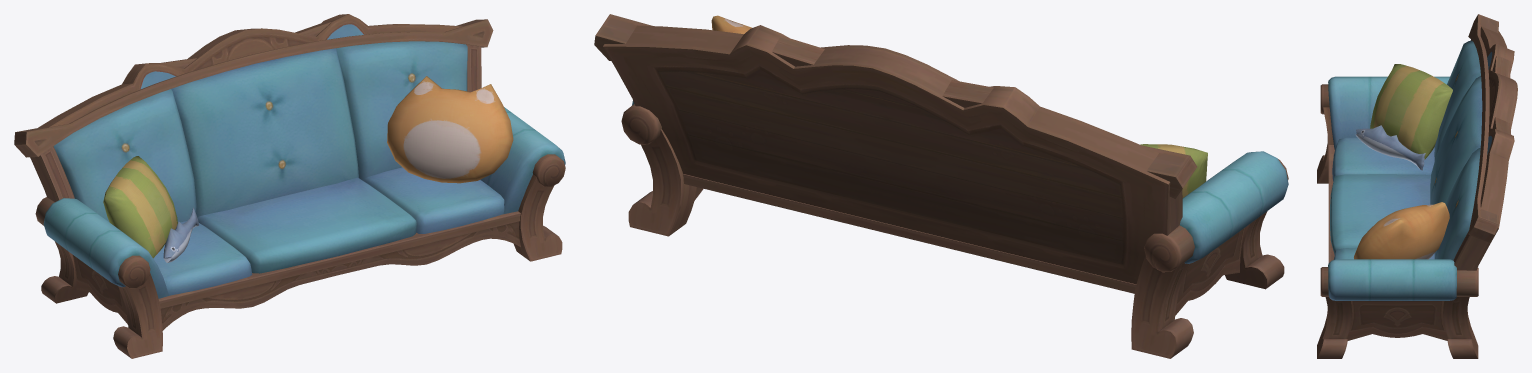
Rendered from Homeworld_Interior_Md_Chair_Prop_LeatherSofa_01_Vo.fbx.
3 views of the same model, side by side, from view 1: azimuth 30°, elevation 25°; view 2: azimuth 150°, elevation 25°; view 3: azimuth 270°, elevation 25° (orthographic). The views are drawn at different scales.
Visible parts, largest first — view 1: Indoor_Md_Prop_Chair_Leatherchair_01_Vo; view 2: Indoor_Md_Prop_Chair_Leatherchair_01_Vo; view 3: Indoor_Md_Prop_Chair_Leatherchair_01_Vo.
Boxes of the visible parts, x1,y1,x2,y2 form: Indoor_Md_Prop_Chair_Leatherchair_01_Vo: [14, 14, 565, 358]; Indoor_Md_Prop_Chair_Leatherchair_01_Vo: [594, 14, 1288, 358]; Indoor_Md_Prop_Chair_Leatherchair_01_Vo: [1317, 14, 1517, 358].
Bounding box in the file's own units: 3.81 × 1.58 × 1.57.
